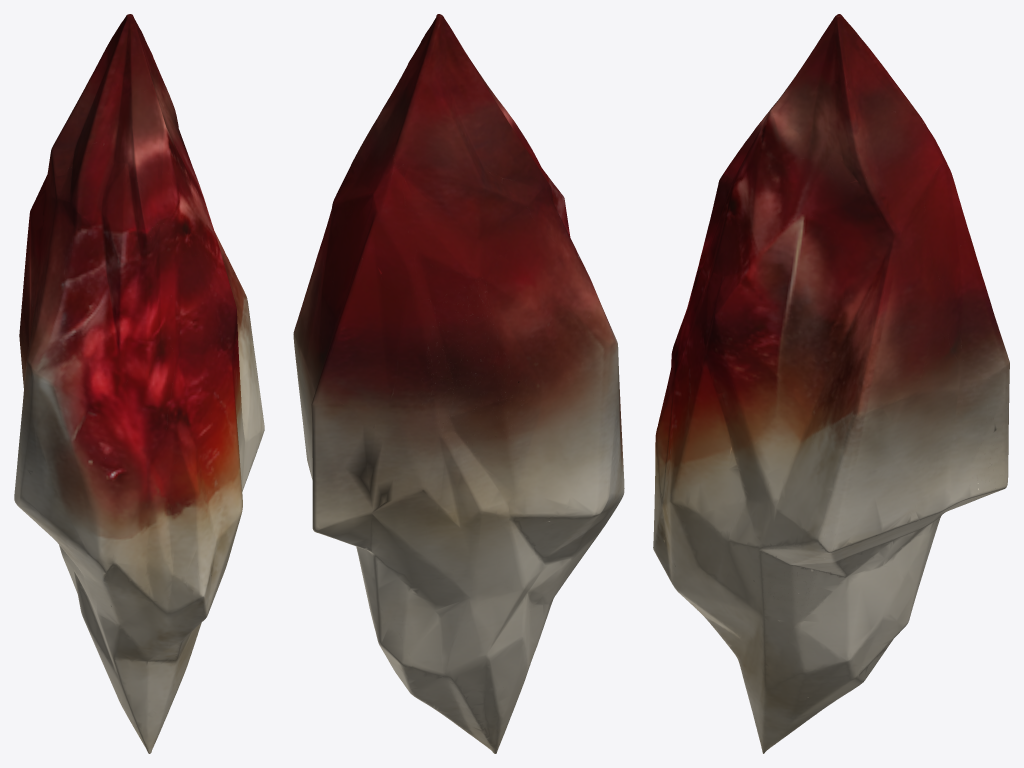
File: kristal.glb
3 renders of one model, left to right at view 1: azimuth 30°, elevation 25°; view 2: azimuth 150°, elevation 25°; view 3: azimuth 270°, elevation 25°, orthographic. The views are drawn at different scales.
Visible parts, largest first — view 1: material; view 2: material; view 3: material.
Boxes of the visible parts, x1,y1,x2,y2 form: material: [14, 14, 264, 753]; material: [293, 14, 624, 753]; material: [653, 14, 1009, 753].
Bounding box in the file's own units: 0.4536 × 1.18 × 0.5126.
1 material, 1 textured.
